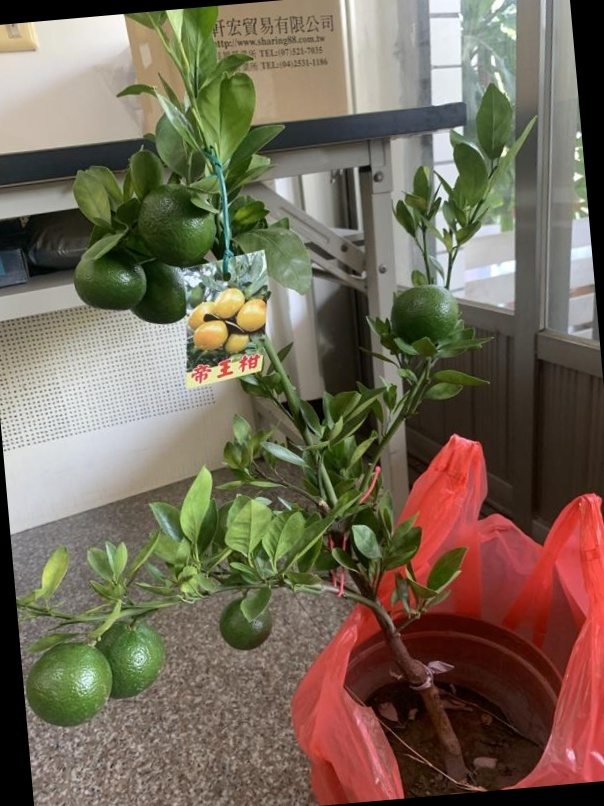Tangerine: (26, 640, 111, 723), (136, 186, 225, 262), (68, 242, 145, 311), (97, 621, 165, 698), (387, 281, 465, 346), (220, 595, 273, 654)
